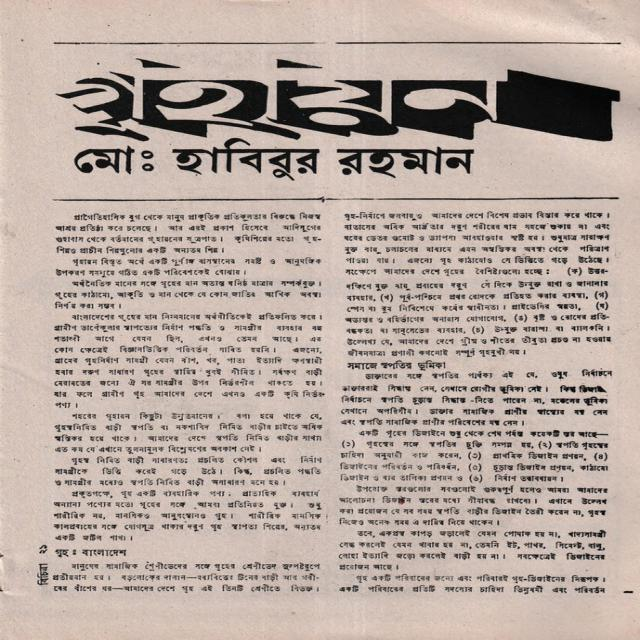page number: (38, 544, 50, 554)
paragraph: (342, 209, 618, 357), (51, 313, 324, 409), (339, 368, 614, 427), (338, 429, 613, 483), (52, 489, 323, 543), (54, 210, 325, 255), (338, 528, 607, 571), (335, 485, 611, 526), (53, 412, 325, 453), (54, 454, 325, 486), (52, 279, 323, 310), (51, 563, 323, 593), (338, 574, 607, 595), (55, 256, 323, 277)
text: (68, 134, 477, 181), (36, 563, 50, 586)
title: (61, 70, 621, 141), (345, 360, 450, 372), (54, 548, 129, 558)
